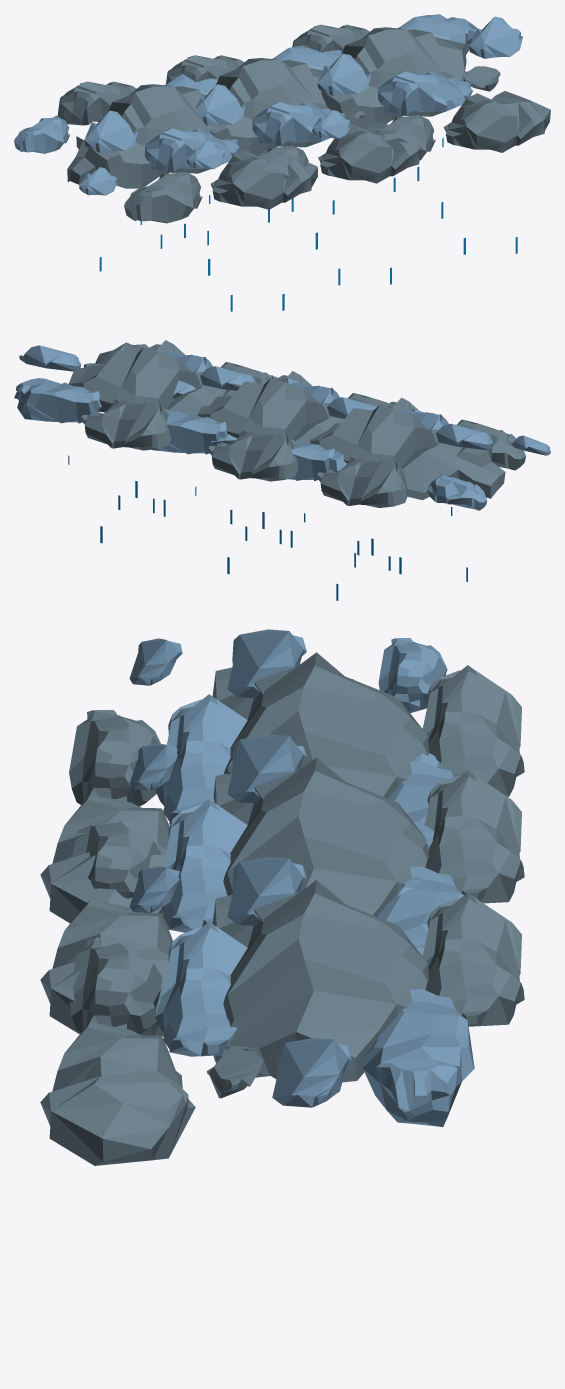
Rendered from Rain.glb.
The picture shows the model from 3 angles, top to bottom: view 1: azimuth 30°, elevation 25°; view 2: azimuth 150°, elevation 25°; view 3: azimuth 270°, elevation 25°; orthographic projection. The views are drawn at different scales.
Parts seen in each view (by area): view 1: Box018 (×3), Box022 (×3), Box025 (×3), Box017 (×3), Box021 (×3), Box023 (×3), Box026 (×3), Box027 (×3), Box020, Box028, Box024; view 2: Box018 (×3), Box021 (×3), Box026 (×3), Box023 (×3), Box017 (×2), Box028, Box025 (×3), Box020, Box022, Box027; view 3: Box018 (×3), Box022 (×3), Box021 (×3), Box025 (×3), Box017 (×3), Box026 (×3), Box023 (×3), Box027 (×3), Box020, Box028, Box024.
Part boxes in pixels (x1,y1,x2,y2): Box018 (×3): (67, 27, 467, 188); Box022 (×3): (210, 91, 550, 209); Box025 (×3): (144, 71, 472, 172); Box017 (×3): (124, 113, 435, 223); Box021 (×3): (57, 24, 369, 125); Box023 (×3): (84, 53, 371, 152); Box026 (×3): (164, 14, 476, 94); Box027 (×3): (79, 110, 350, 195); Box020: (469, 16, 522, 58); Box028: (14, 116, 69, 153); Box024: (462, 66, 500, 91); Box018 (×3): (68, 347, 505, 500); Box021 (×3): (81, 400, 407, 507); Box026 (×3): (14, 378, 334, 481); Box023 (×3): (200, 366, 493, 450); Box017 (×2): (221, 362, 525, 470); Box028: (427, 474, 487, 510); Box025 (×3): (164, 352, 448, 429); Box020: (19, 345, 81, 371); Box022: (95, 340, 185, 364); Box027: (511, 435, 550, 455); Box018 (×3): (212, 652, 428, 1082); Box022 (×3): (40, 794, 195, 1165); Box021 (×3): (422, 665, 524, 1026); Box025 (×3): (155, 694, 247, 1056); Box017 (×3): (69, 710, 162, 1033); Box026 (×3): (361, 761, 474, 1126); Box023 (×3): (227, 629, 306, 925); Box027 (×3): (129, 638, 182, 913); Box020: (272, 1038, 351, 1107); Box028: (378, 638, 447, 712); Box024: (207, 1046, 263, 1098).
Size of what is drawn, in the model's own units: 26.86 by 10.82 by 11.69.
